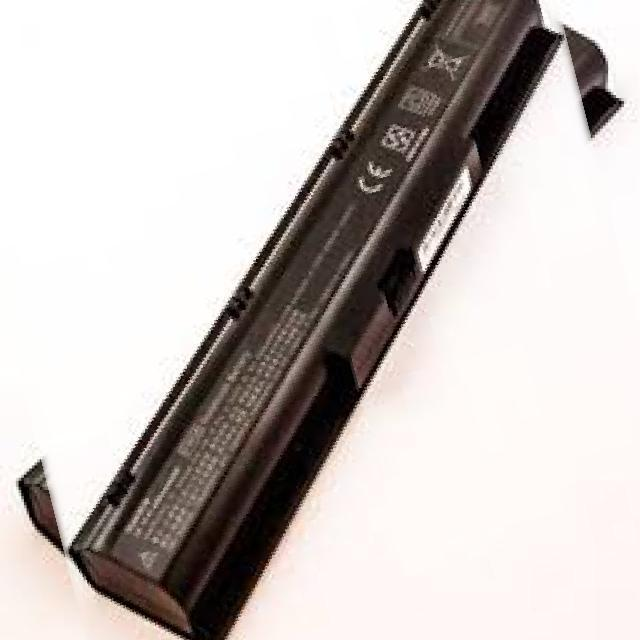Battery: (11, 0, 572, 640)
